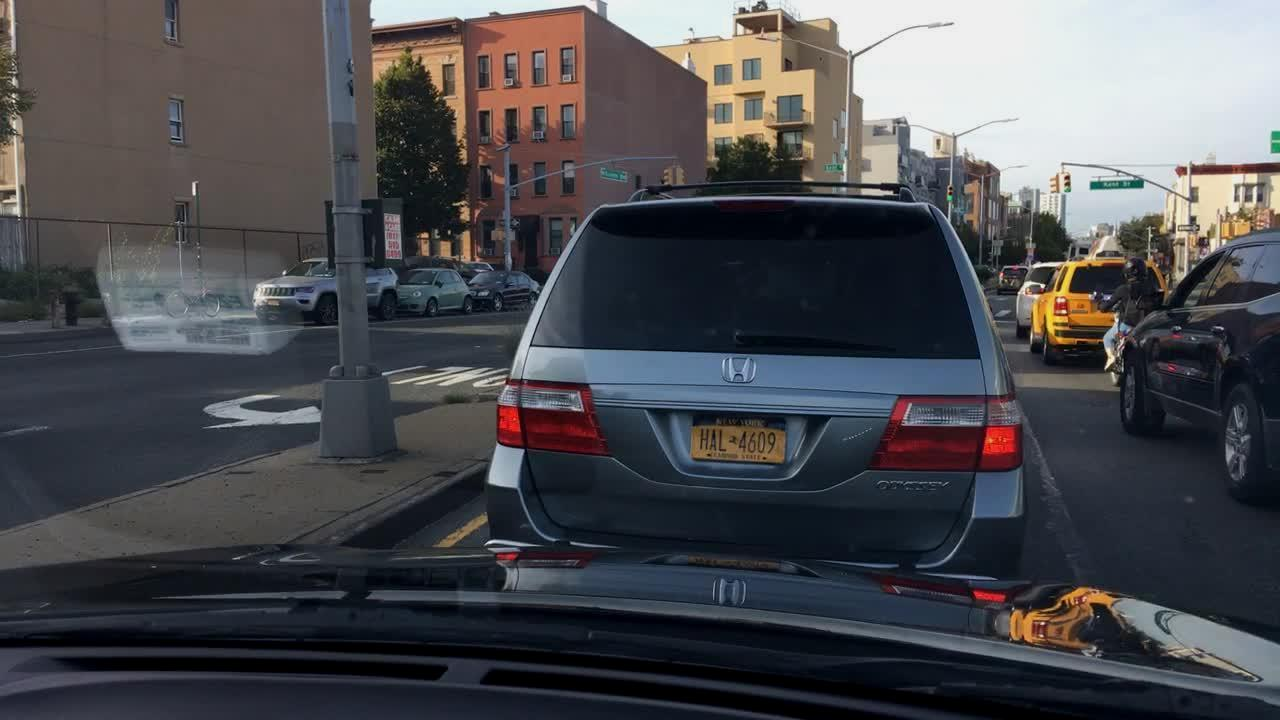Honda: (711, 348, 771, 392)
